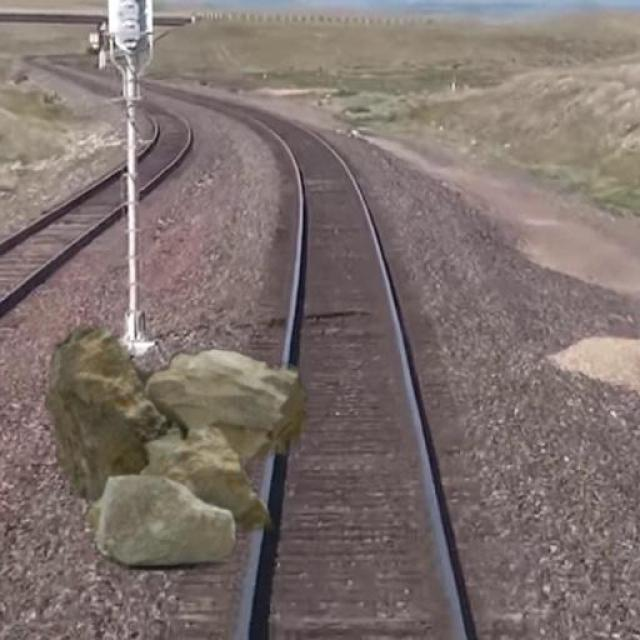Stone: (42, 326, 302, 568)
